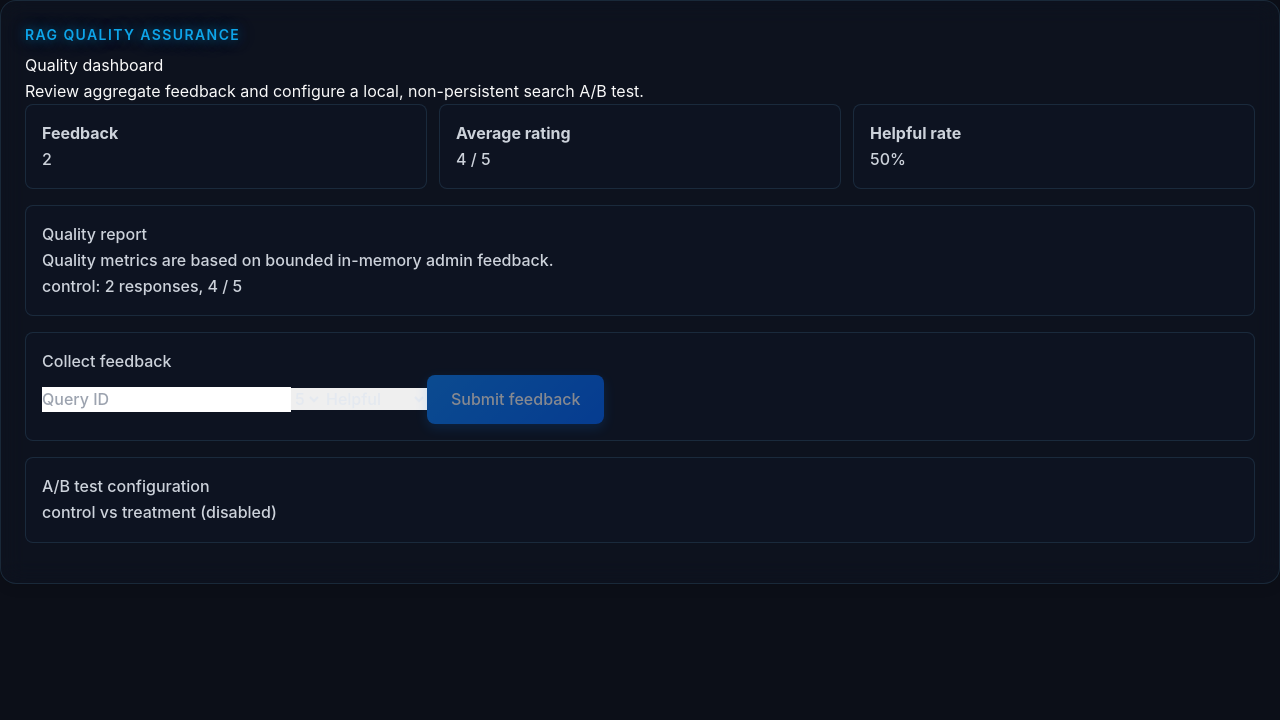
admin RAG quality dashboard › shows metrics and submits authenticated feedback
Expected: the text "4 / 5" is shown, [456,149,491,169]
Type "query-1" into the field labelled "Query ID" at (166, 400), box [42,387,291,412]
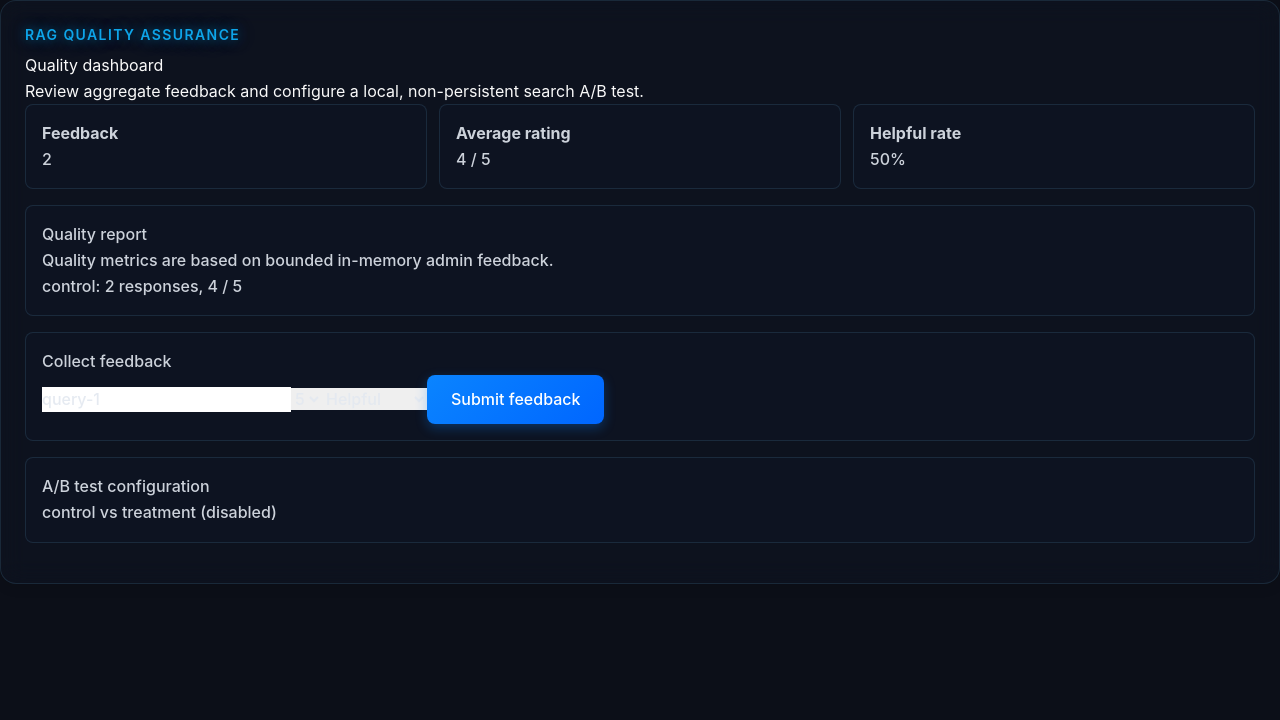
Click the button "Submit feedback" at (516, 400), box [427,375,604,424]
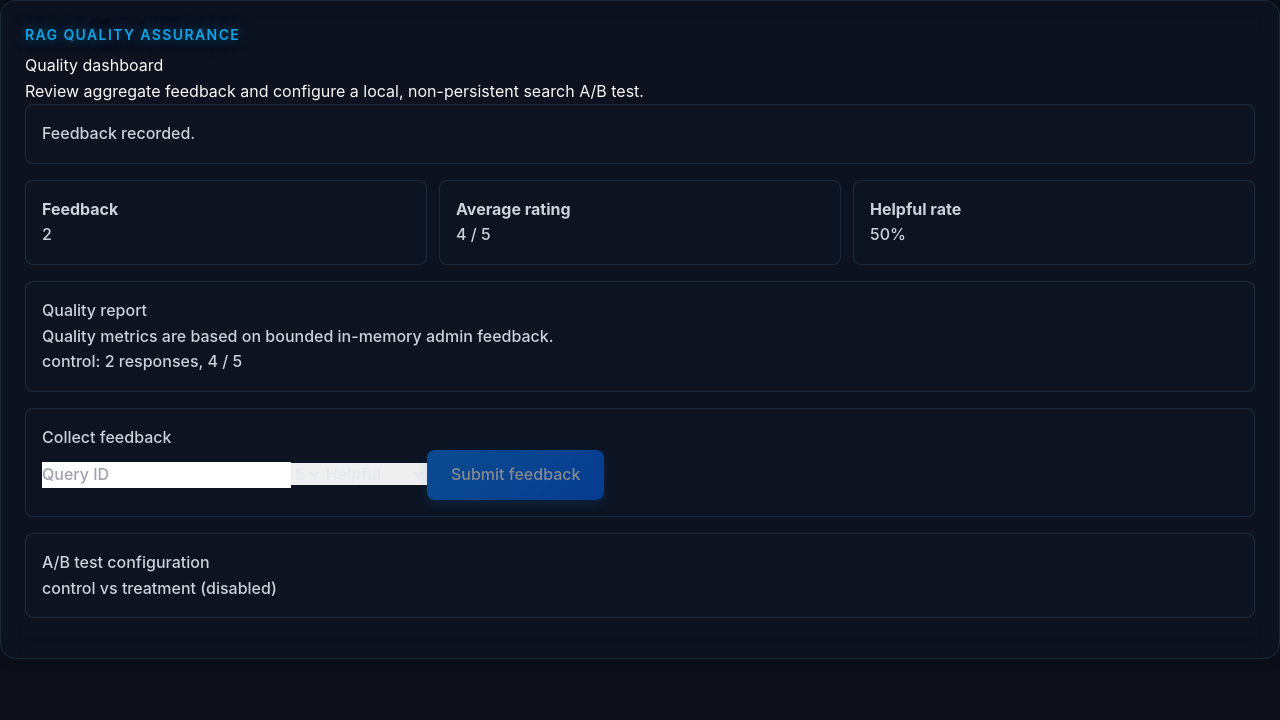
Now the text "Feedback recorded." is shown, box [25,104,1255,164]
